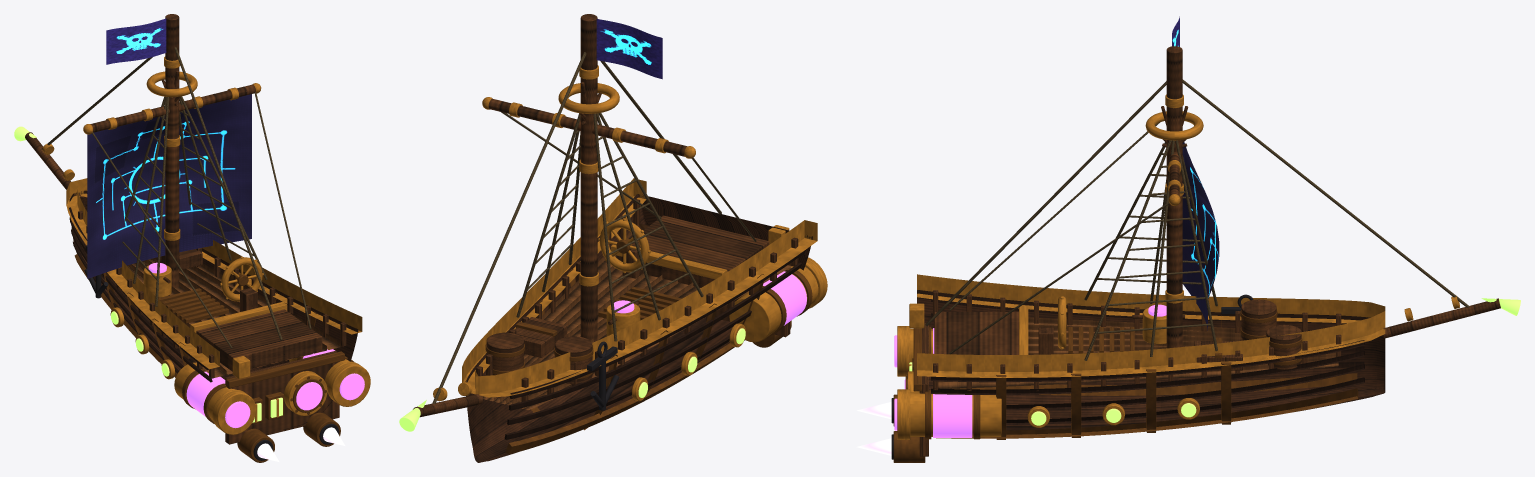
The model's file is pirateship_beginner.glb.
The picture shows the model from 3 angles, left to right: view 1: azimuth 30°, elevation 25°; view 2: azimuth 150°, elevation 25°; view 3: azimuth 270°, elevation 25°; orthographic projection. The views are drawn at different scales.
Parts seen in each view (by area): view 1: mainsail, wood_trim_parts, brass_parts, rope_parts, brass_dark_parts, deck_planks_parts, hull_planks_parts, flag, hull_seam_parts, neon_violet_parts, iron_parts, porthole_glow (+2 smaller); view 2: brass_parts, wood_trim_parts, hull_planks_parts, rope_parts, hull_seam_parts, brass_dark_parts, deck_planks_parts, flag, neon_violet_parts, iron_parts; view 3: brass_parts, wood_trim_parts, brass_dark_parts, hull_planks_parts, rope_parts, hull_seam_parts, deck_planks_parts, mainsail, neon_violet_parts.
Part boxes in pixels (<box>): mainsail: <box>87,94,251,278</box>; wood_trim_parts: <box>25,14,346,444</box>; brass_parts: <box>42,56,370,434</box>; rope_parts: <box>41,47,311,348</box>; brass_dark_parts: <box>74,254,353,462</box>; deck_planks_parts: <box>80,236,341,377</box>; hull_planks_parts: <box>69,190,358,433</box>; flag: <box>106,18,166,64</box>; hull_seam_parts: <box>69,207,339,382</box>; neon_violet_parts: <box>186,349,335,416</box>; iron_parts: <box>84,245,339,460</box>; porthole_glow: <box>296,382,322,410</box>; brass_parts: <box>433,65,827,401</box>; wood_trim_parts: <box>413,14,798,417</box>; hull_planks_parts: <box>466,194,812,462</box>; rope_parts: <box>432,52,756,404</box>; hull_seam_parts: <box>465,250,805,439</box>; brass_dark_parts: <box>485,238,812,454</box>; deck_planks_parts: <box>482,223,791,409</box>; flag: <box>596,19,662,79</box>; neon_violet_parts: <box>763,271,806,325</box>; iron_parts: <box>587,341,619,410</box>; brass_parts: <box>897,94,1459,439</box>; wood_trim_parts: <box>919,46,1500,456</box>; brass_dark_parts: <box>893,306,1358,462</box>; hull_planks_parts: <box>917,290,1385,430</box>; rope_parts: <box>925,79,1469,360</box>; hull_seam_parts: <box>931,299,1364,424</box>; deck_planks_parts: <box>938,317,1338,388</box>; mainsail: <box>1182,142,1219,330</box>; neon_violet_parts: <box>933,328,972,437</box>.
Size of the model in its own units: 2.47 by 4.64 by 7.1.
13 materials, 10 textured.
